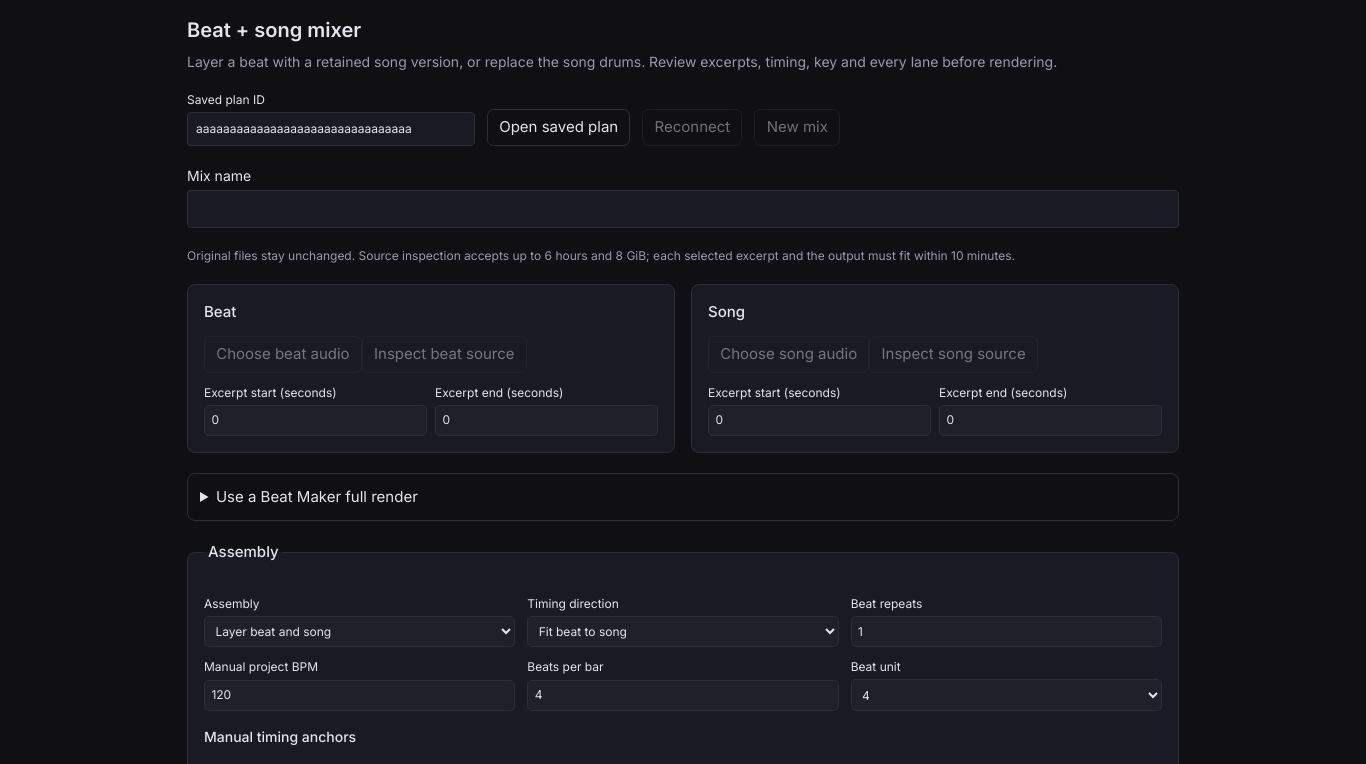
does not apply plan A after a later plan B was opened
Replace the text in the field labelled "Saved plan ID" with "bbbbbbbbbbbbbbbbbbbbbbbbbbbbbbbb": (331, 129) [187, 112, 475, 146]
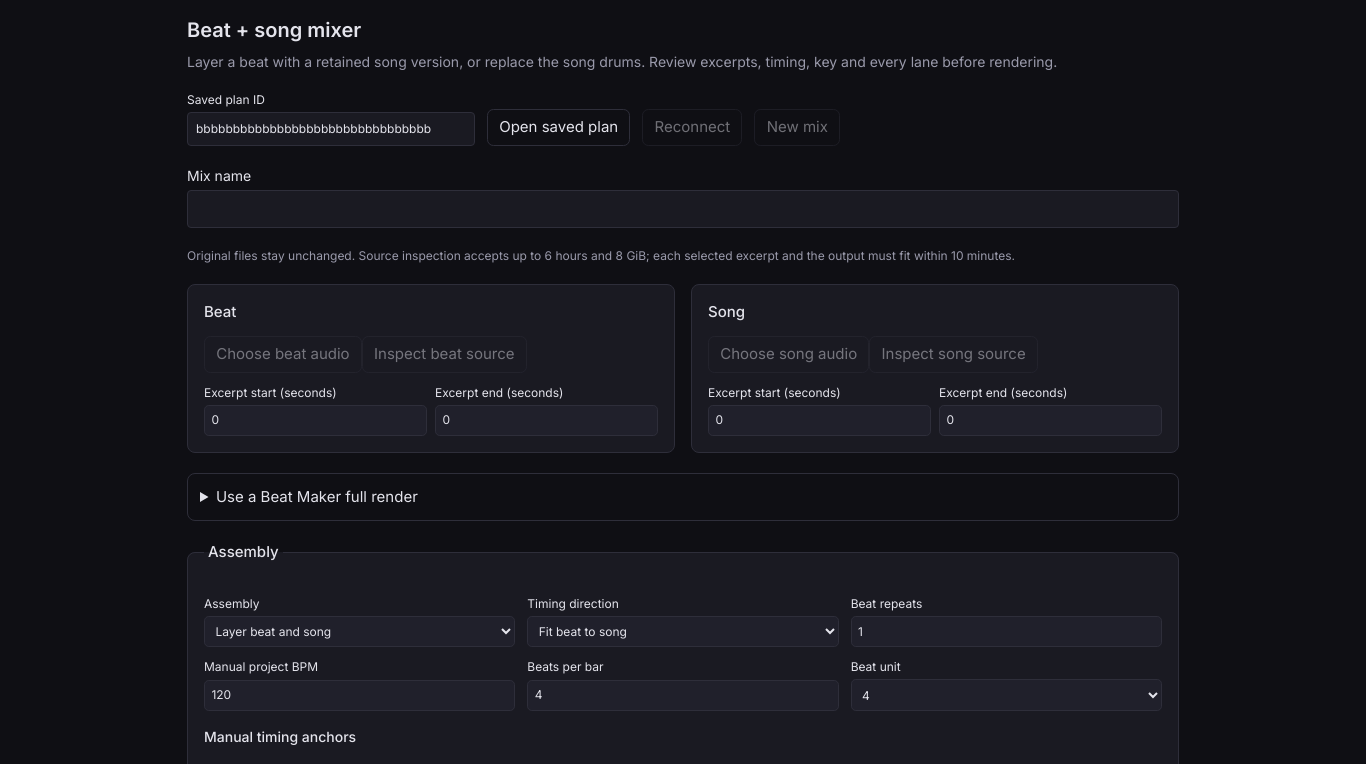
Click the button "Open saved plan": (559, 127) [487, 109, 630, 146]
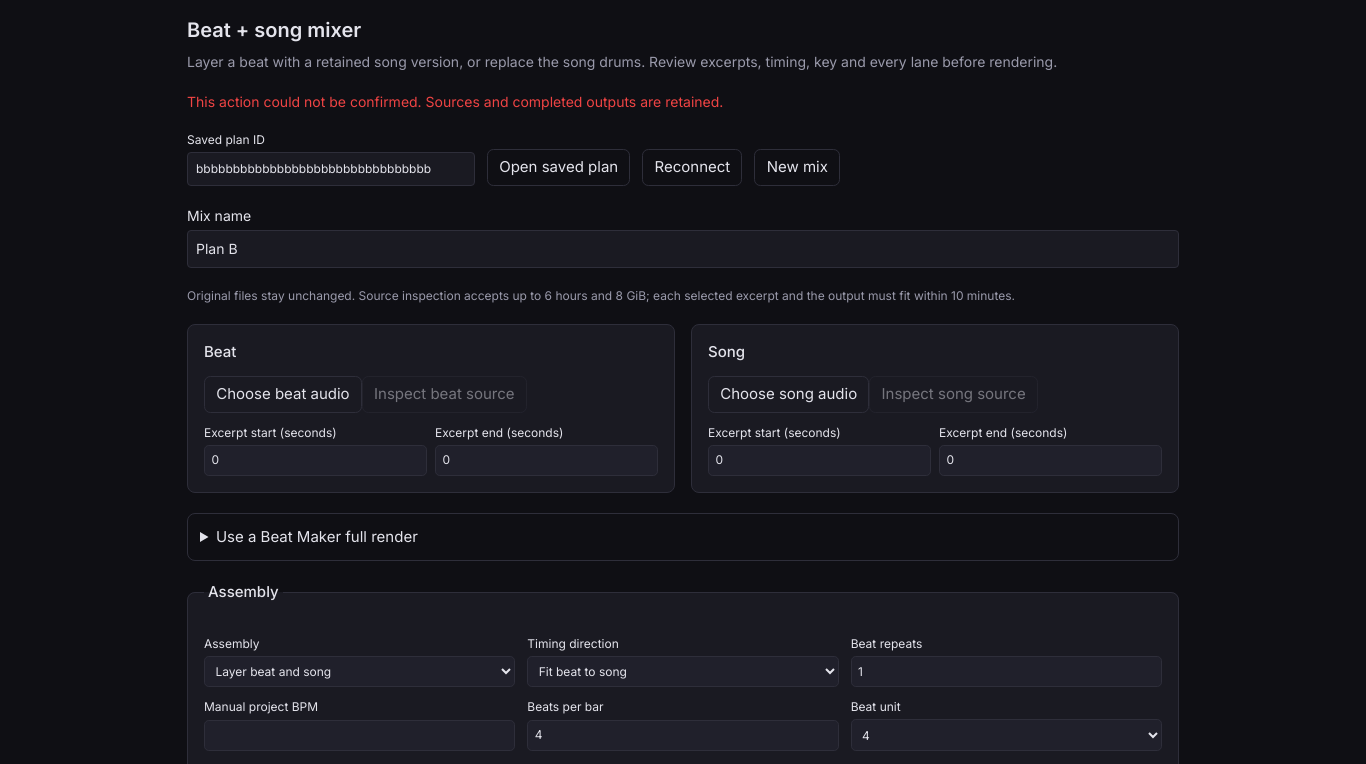
Expected: the field labelled "Mix name" holds "Plan B", [187, 230, 1179, 268]
